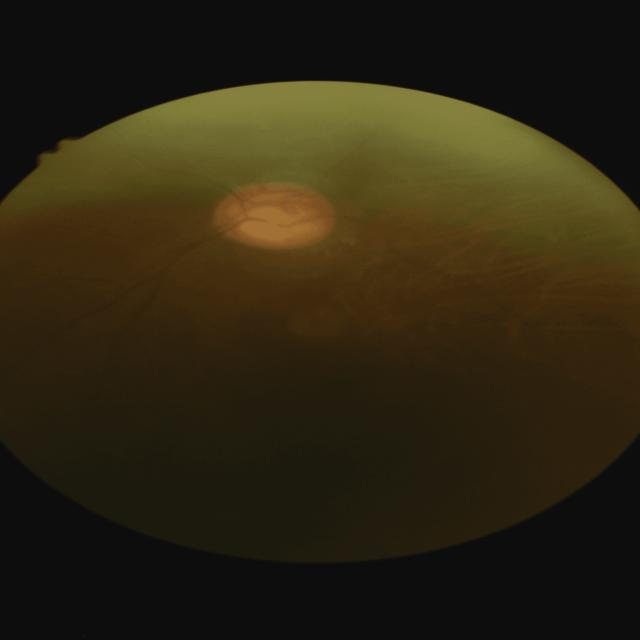cup: (228, 190, 322, 238)
disk: (215, 181, 336, 249)
